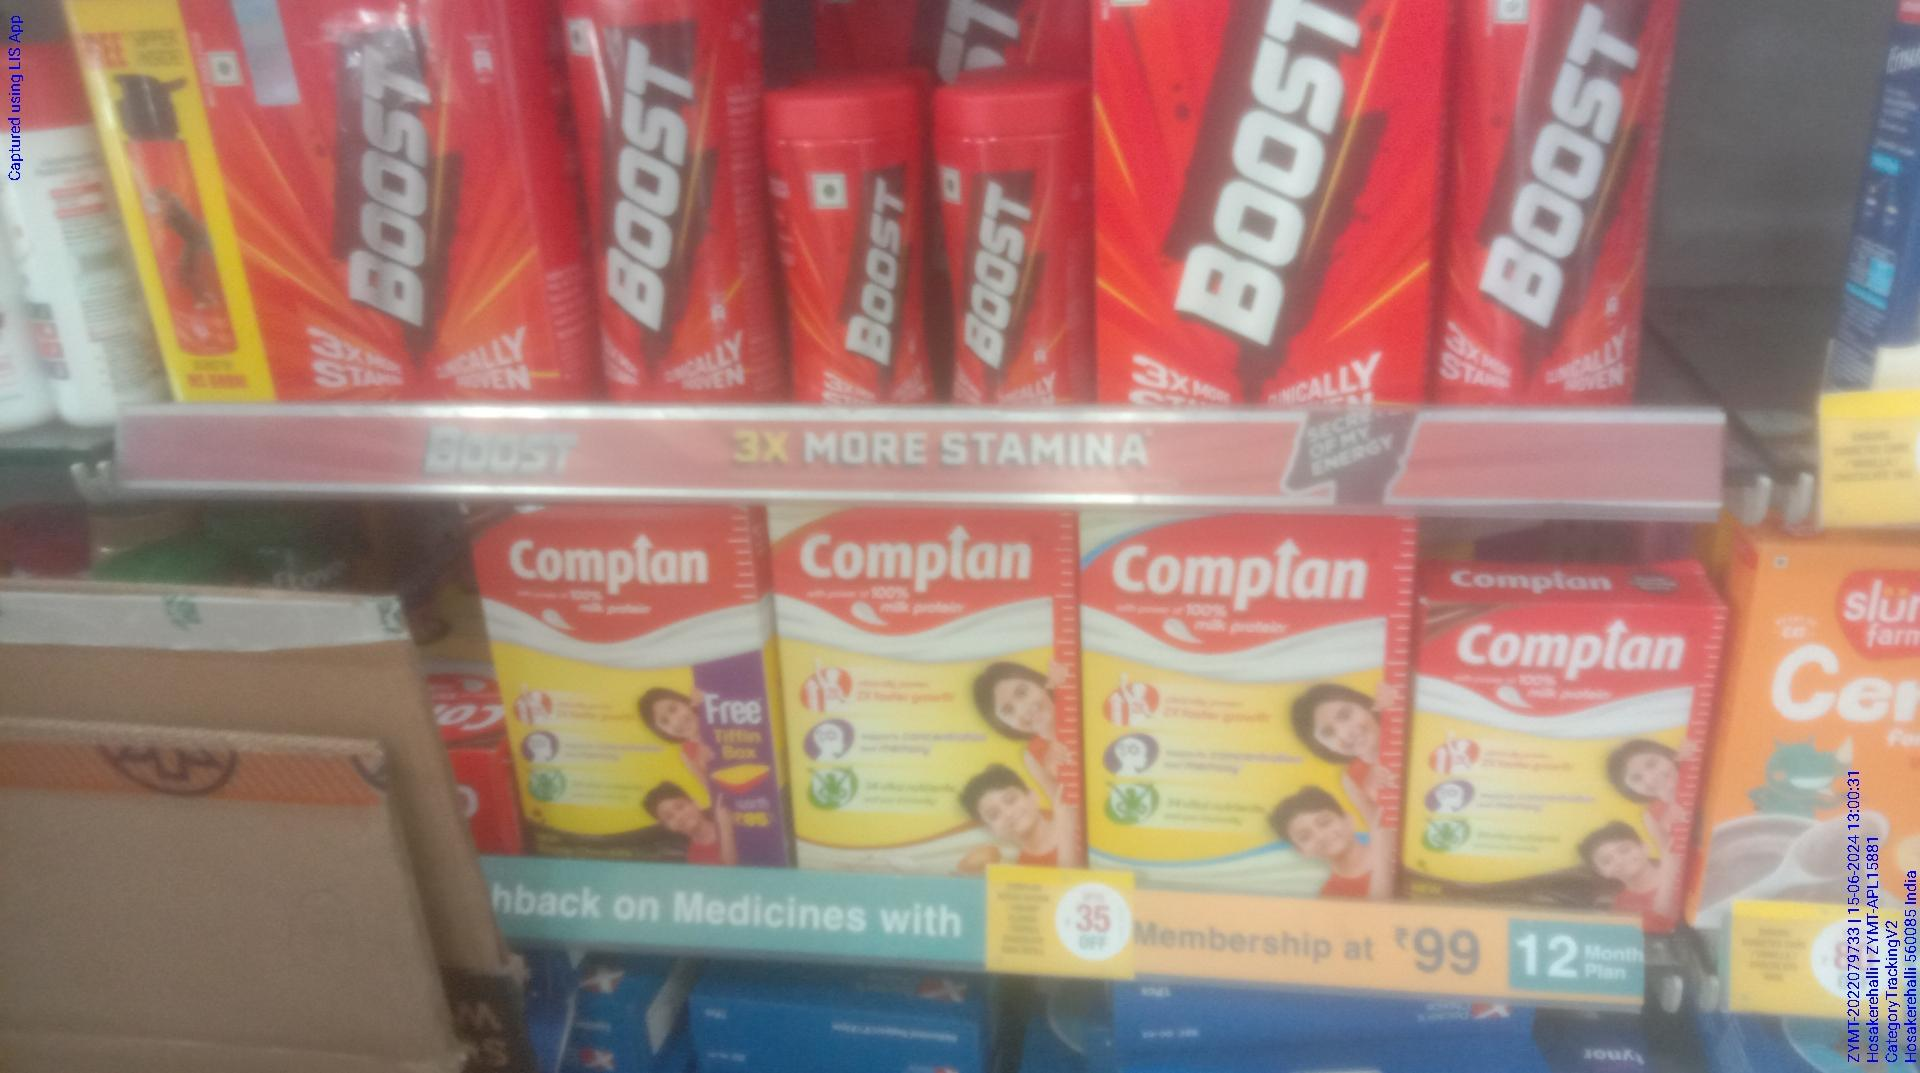COMPLAN_CHOCOLATE_200_GMS_PACK: (1414, 589, 1701, 912)
COMPLAN_CHOCOLATE_500_GMS_PACK: (491, 513, 771, 859)
COMPLAN_CREAMY_CLASSIC_500_G_PACK: (1087, 509, 1393, 886)
COMPLAN_KESAR_BADAM_500_GMS_PACK: (782, 505, 1080, 859)
